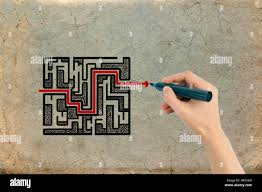maze: (41, 57, 131, 134)
